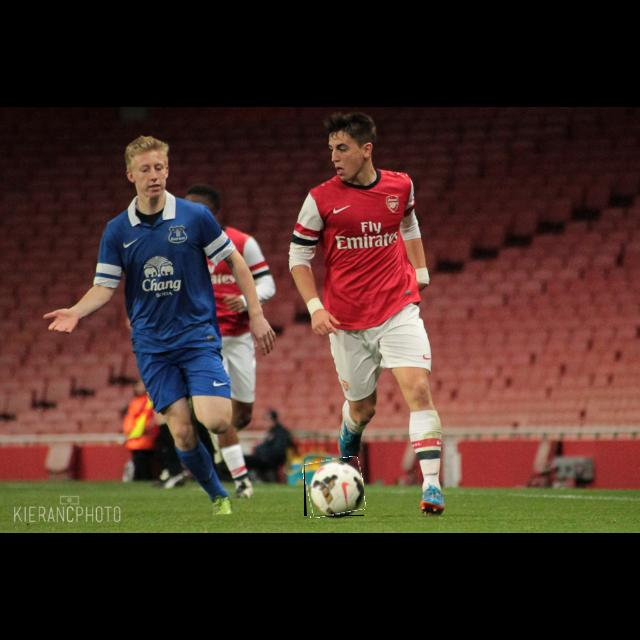Football: (304, 458, 364, 516)
